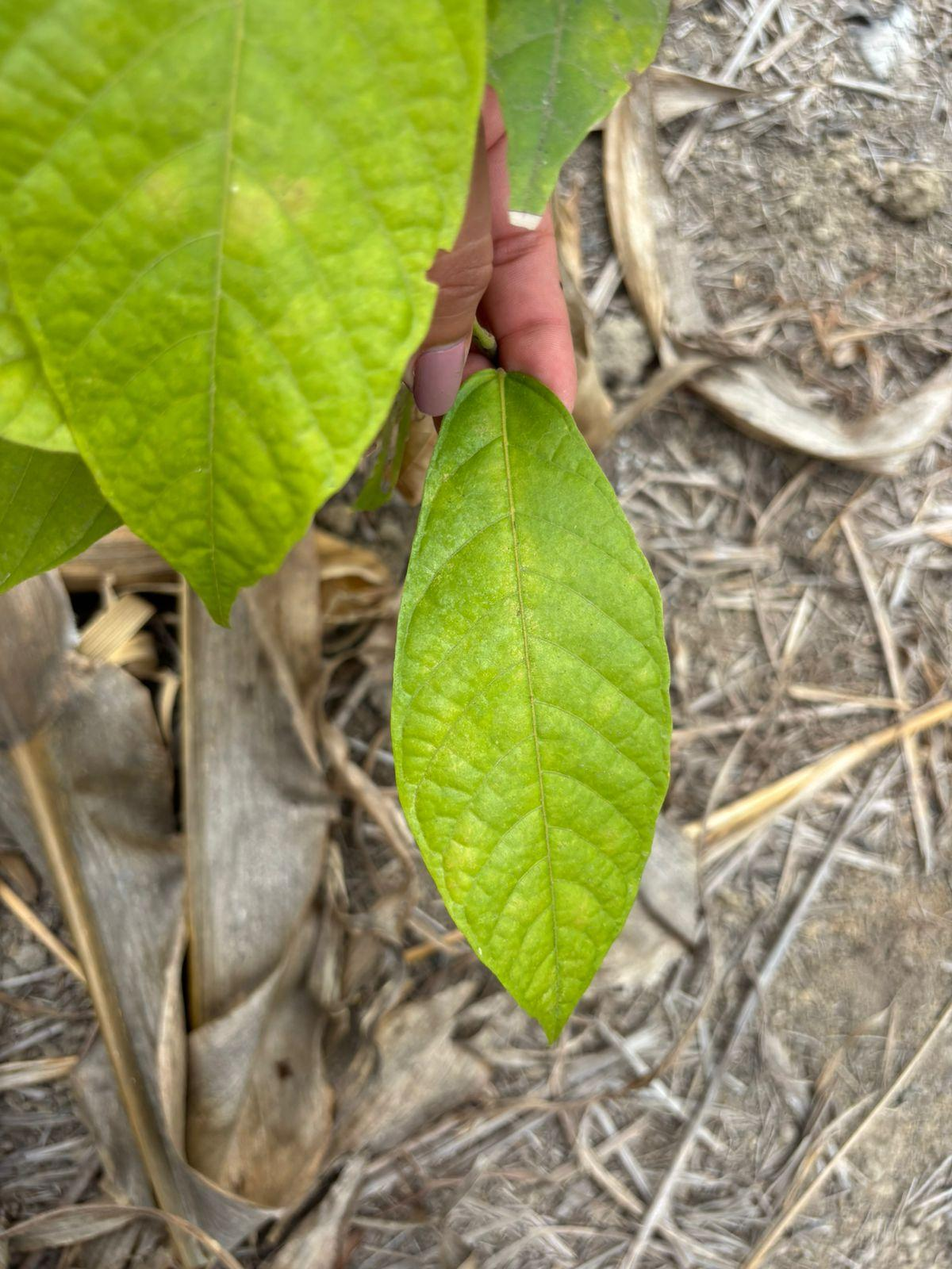deficiencia_nitrogeno: (391, 370, 670, 1039), (132, 383, 135, 389)
